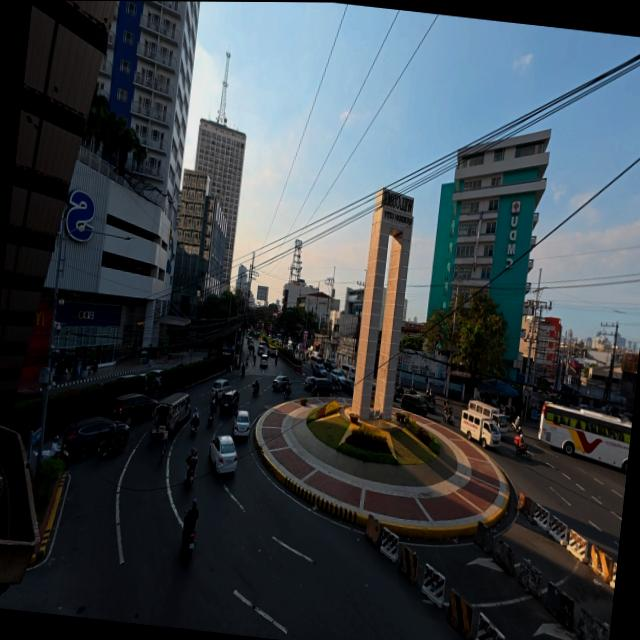Jeepneys: (150, 392, 189, 437)
bus: (538, 403, 631, 473)
car: (62, 417, 128, 460), (110, 393, 155, 421), (209, 436, 236, 473), (400, 394, 427, 416), (232, 411, 249, 438), (219, 390, 238, 414), (211, 379, 229, 399), (15, 388, 42, 401), (311, 378, 330, 396), (271, 375, 289, 391), (147, 369, 161, 388), (338, 378, 352, 395), (329, 368, 343, 381), (312, 363, 325, 377), (113, 374, 137, 381), (323, 358, 335, 372), (393, 386, 403, 401), (303, 376, 314, 389), (425, 399, 435, 413), (256, 344, 264, 355), (259, 356, 266, 367), (268, 347, 275, 357), (247, 337, 254, 347), (287, 344, 293, 353), (244, 334, 249, 340)
motorcycle: (97, 436, 124, 459), (182, 524, 195, 558), (513, 436, 530, 460), (56, 446, 71, 470), (442, 408, 456, 425), (510, 422, 521, 435), (185, 468, 193, 485), (190, 418, 197, 434), (283, 385, 290, 398), (207, 413, 213, 426), (252, 383, 258, 395), (240, 370, 244, 378), (252, 356, 255, 365), (274, 356, 277, 365)
vans: (459, 409, 500, 448), (468, 400, 507, 436), (340, 364, 355, 380), (310, 354, 323, 366)
